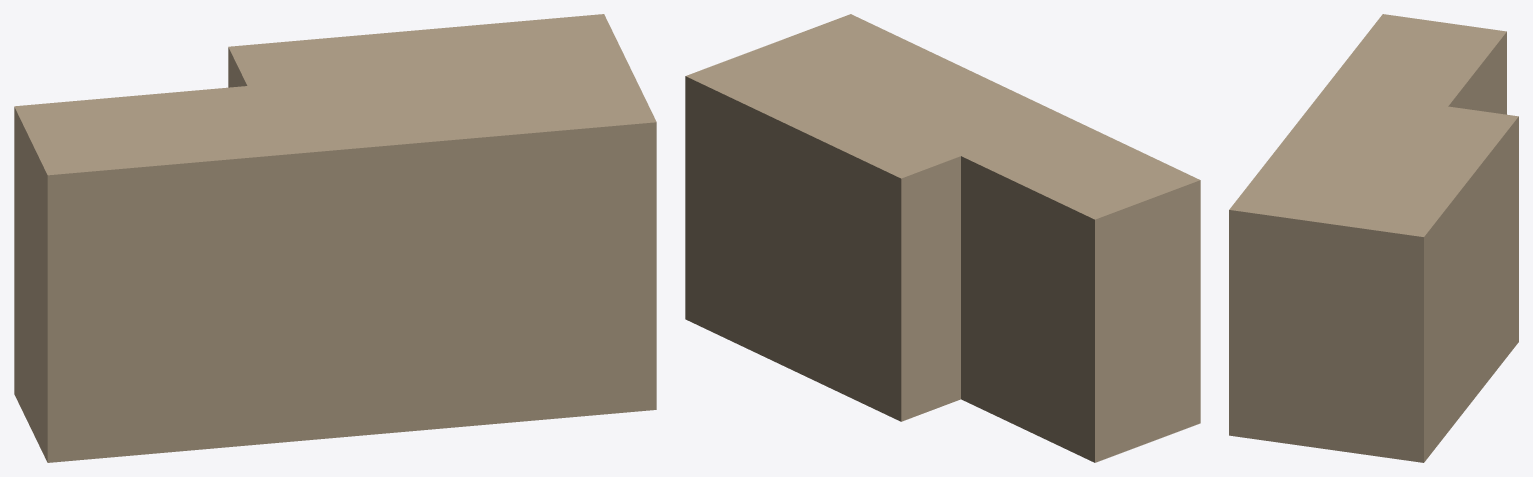
Rendered from bld_101353732.dae.
3 views of the same model, side by side, from view 1: azimuth 30°, elevation 25°; view 2: azimuth 150°, elevation 25°; view 3: azimuth 270°, elevation 25° (orthographic). The views are drawn at different scales.
Parts seen in each view (by area): view 1: bld_101353732; view 2: bld_101353732; view 3: bld_101353732.
Boxes of the visible parts, x1,y1,x2,y2 form: bld_101353732: (14, 14, 656, 462); bld_101353732: (685, 14, 1200, 462); bld_101353732: (1229, 14, 1518, 462).
Size of the model in its own units: 16.96 by 9.3 by 8.
